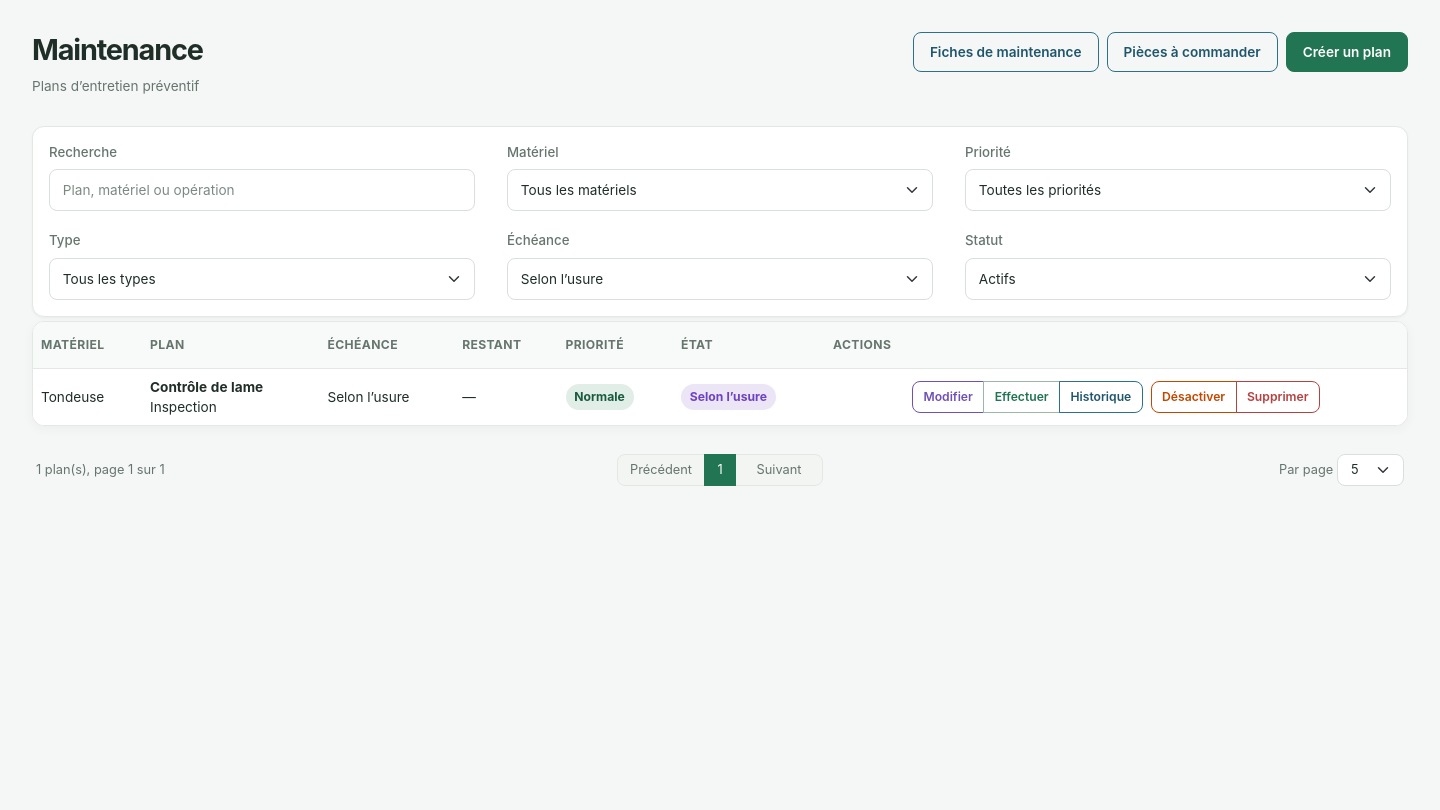
Test case: MaintenancePage › displays wear-based plans without a calendar deadline
Check: the text "Contrôle de lame" is shown, box x1=150 y1=379 x2=263 y2=395
Check: the 1st text "Selon l’usure" is shown, box x1=319 y1=368 x2=454 y2=425
What coordinates should you click on to do the following:
click the button with aria-label "Modifier Contrôle de lame"
I would click on:
 (948, 397)
Its box is x1=912 y1=381 x2=984 y2=413.
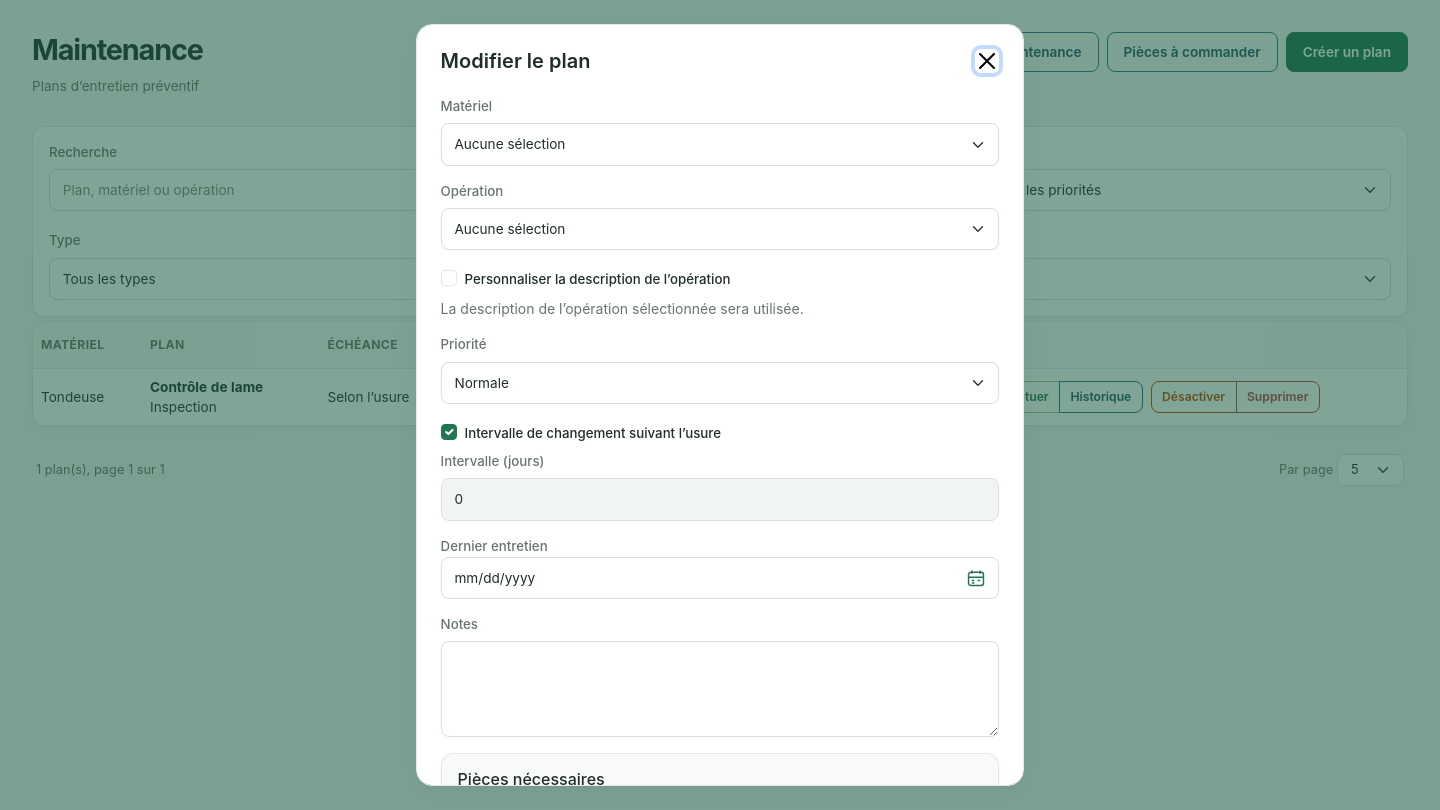
Check: the checkbox labelled "Intervalle de changement suivant l’usure" is checked, box x1=441 y1=424 x2=457 y2=440
